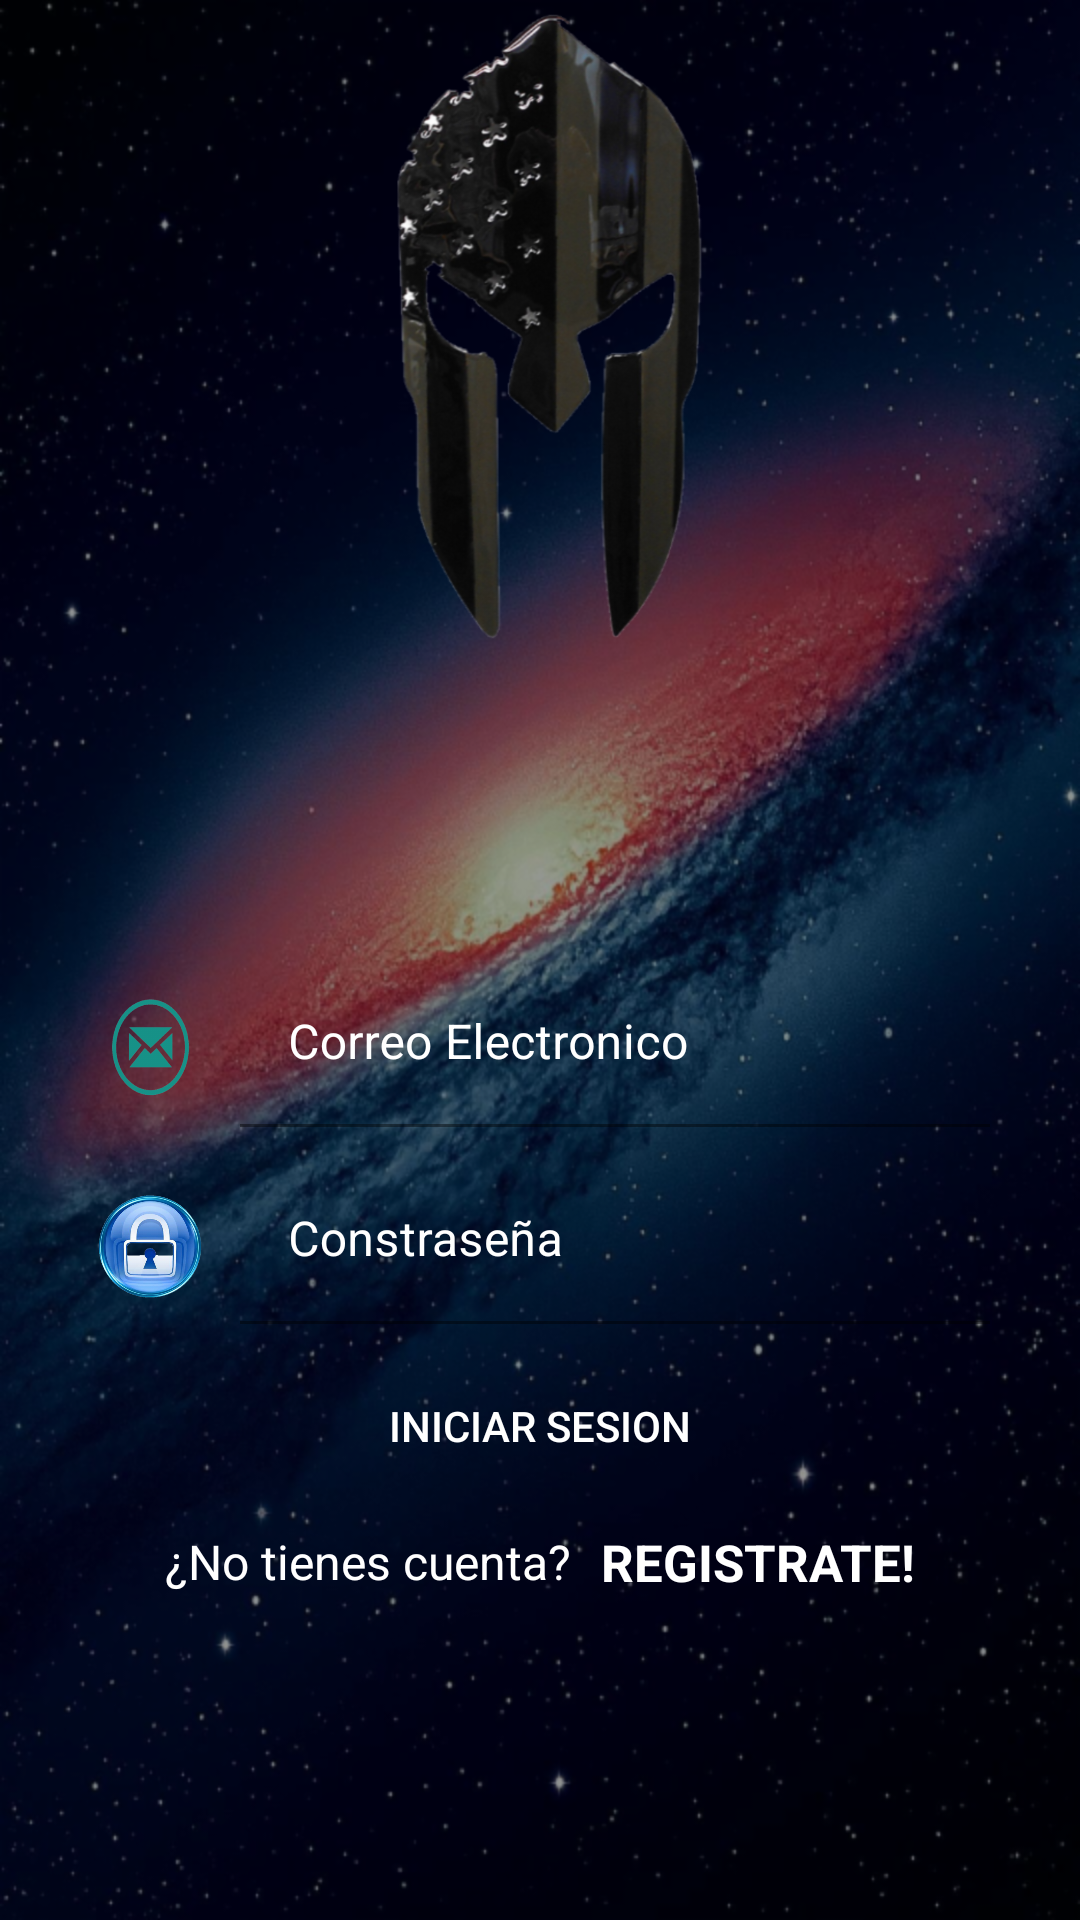

Icon bounding boxes for this 1080px×1920px phone screenshot, format {"x1": x1, "y1": y1, "x2": x2, "y2": y2}:
contrase transparente: {"x1": 90, "y1": 1187, "x2": 210, "y2": 1298}
correro electronico transparente: {"x1": 90, "y1": 990, "x2": 210, "y2": 1110}
